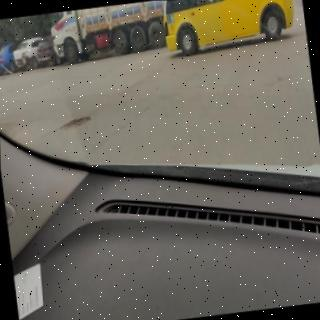pothole: (58, 117, 91, 129)
